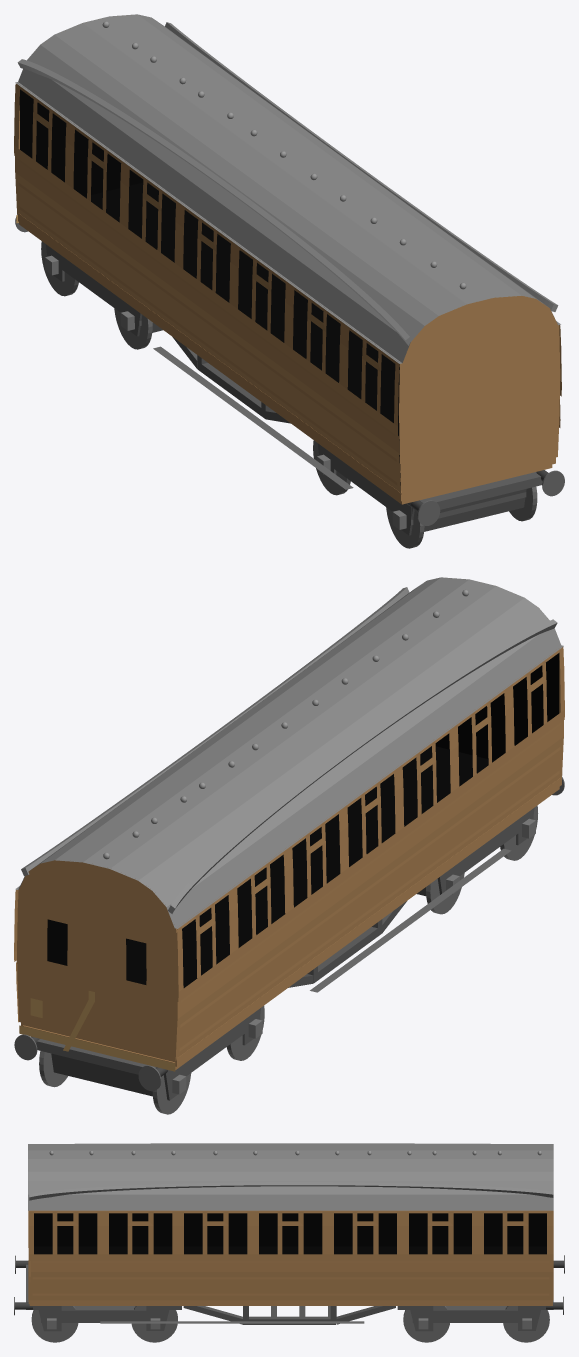
The model's file is lner-standard-51ft-first-teak.dae.
3 views of the same model, one above another, from view 1: azimuth 30°, elevation 25°; view 2: azimuth 150°, elevation 25°; view 3: azimuth 270°, elevation 25° (orthographic). The views are drawn at different scales.
Parts seen in each view (by area): view 1: Plane_083, Plane_001, Plane_359, Plane_019, Plane_002, Plane_009, Plane_012, Cube_029, Cube_043, Cube_070, Cube_028, Plane_007 (+4 smaller); view 2: Plane_083, Plane_006, Plane_359, Plane_019, Plane_002, Plane_009, Cube_043, Plane_012, Cube_029, Cube_028, Plane_003, Plane_008 (+4 smaller); view 3: Plane_002, Plane_359, Plane_019, Plane_011, Plane_083, Cube_043, Cube_028, Plane_012, Cube_072, Plane_007, Plane_008, Cylinder_000 (+7 smaller).
Boxes of the visible parts, <box> form: Plane_083: <box>15,20,478,363</box>; Plane_001: <box>399,296,560,494</box>; Plane_359: <box>15,85,559,494</box>; Plane_019: <box>19,89,400,485</box>; Plane_002: <box>95,14,560,325</box>; Plane_009: <box>14,84,399,436</box>; Plane_012: <box>18,213,555,501</box>; Cube_029: <box>17,59,411,345</box>; Cube_043: <box>41,241,162,349</box>; Cube_070: <box>401,472,542,535</box>; Cube_028: <box>165,22,558,311</box>; Plane_007: <box>19,222,552,504</box>; Plane_083: <box>97,583,563,928</box>; Plane_006: <box>17,860,178,1059</box>; Plane_359: <box>16,647,563,1060</box>; Plane_019: <box>47,653,559,987</box>; Plane_002: <box>15,577,482,889</box>; Plane_009: <box>177,647,564,1001</box>; Cube_043: <box>36,1006,264,1114</box>; Plane_012: <box>21,777,561,1066</box>; Cube_029: <box>168,619,557,913</box>; Cube_028: <box>21,587,409,875</box>; Plane_003: <box>19,991,175,1071</box>; Plane_008: <box>310,848,511,992</box>; Plane_002: <box>28,1154,553,1210</box>; Plane_359: <box>28,1210,553,1300</box>; Plane_019: <box>34,1213,546,1254</box>; Plane_011: <box>28,1211,553,1260</box>; Plane_083: <box>28,1144,553,1154</box>; Cube_043: <box>397,1300,553,1342</box>; Cube_028: <box>29,1182,553,1200</box>; Plane_012: <box>28,1300,552,1303</box>; Cube_072: <box>41,1306,165,1322</box>; Plane_007: <box>29,1300,552,1305</box>; Plane_008: <box>100,1321,364,1323</box>; Cylinder_000: <box>131,1306,177,1342</box>.
Bounding box in the file's own units: 2.09 × 8.92 × 3.07.
